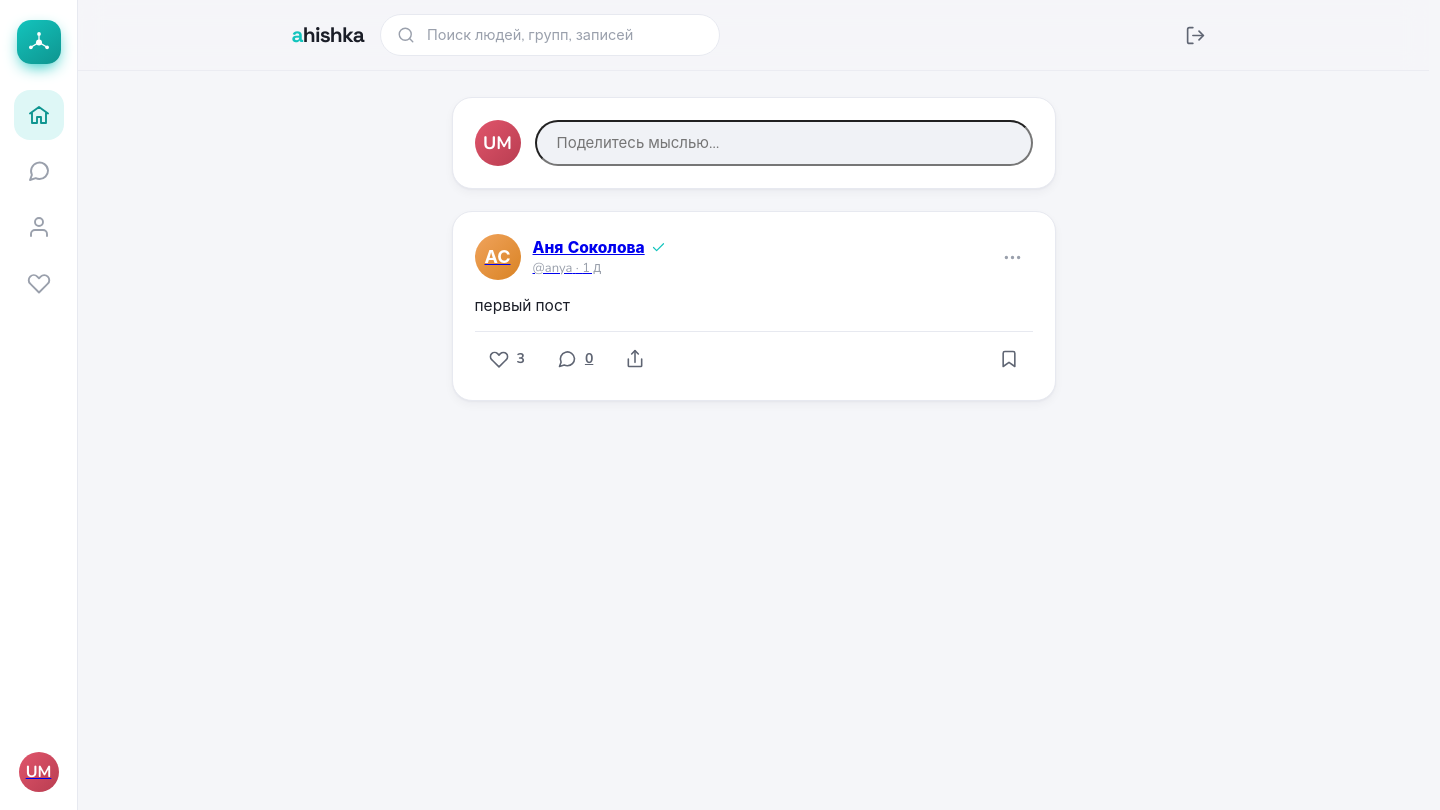
Test case: успешный лайк берёт счётчик из ответа сервера
What coordinates should you click on to do the following:
click the button named "нравится"
I would click on:
 (507, 359)
Its box is [474,340,539,378].
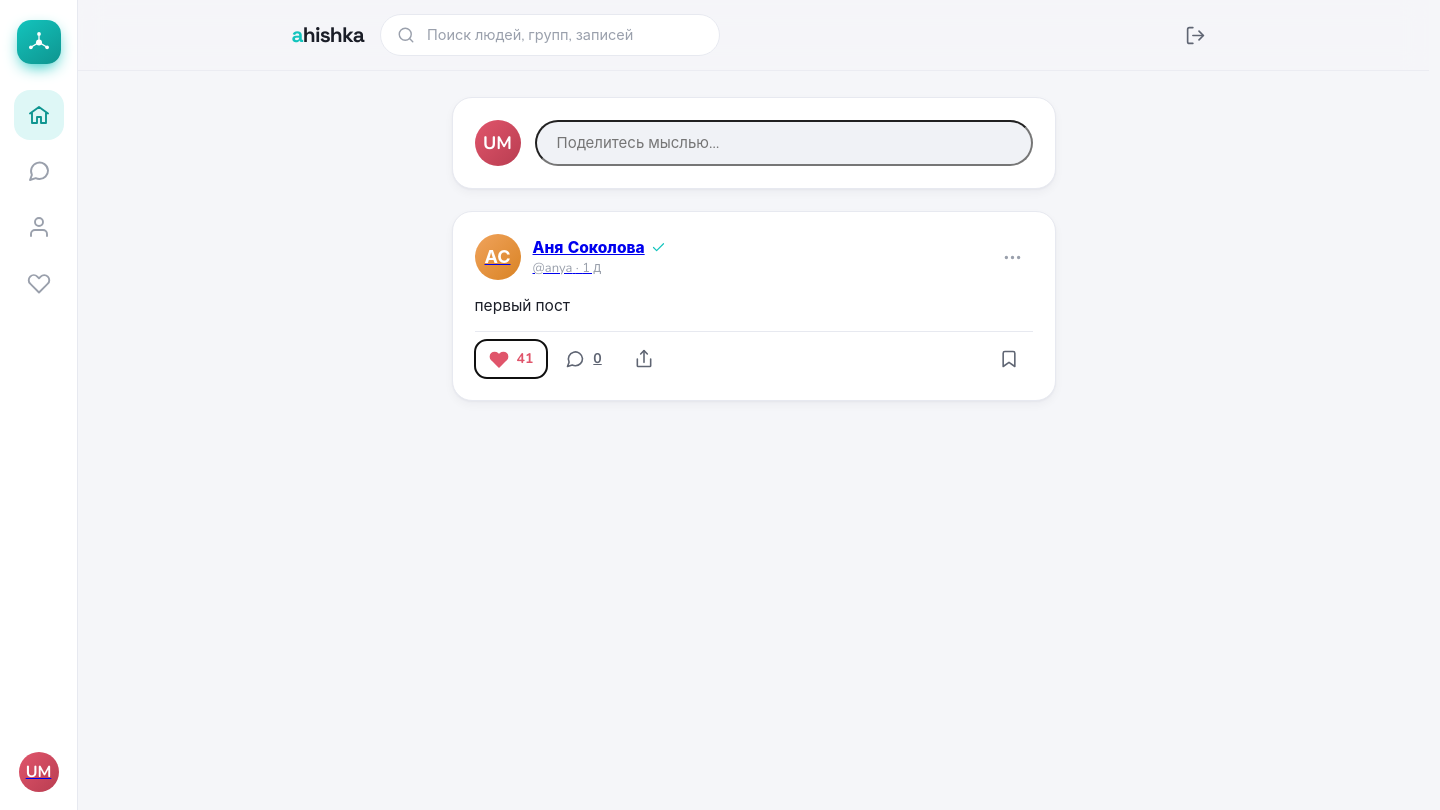
Check: the button named "нравится" reads "41", box [474,340,547,378]
